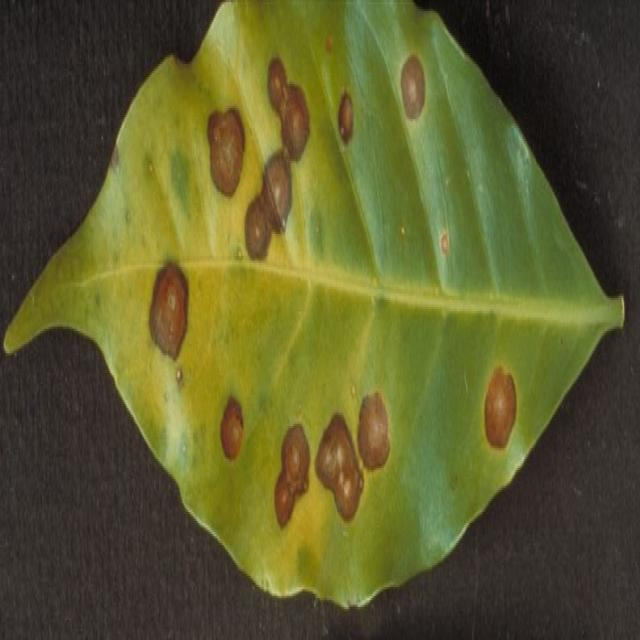Enfermedad-Mancha-de-hierro: (4, 0, 625, 609)
